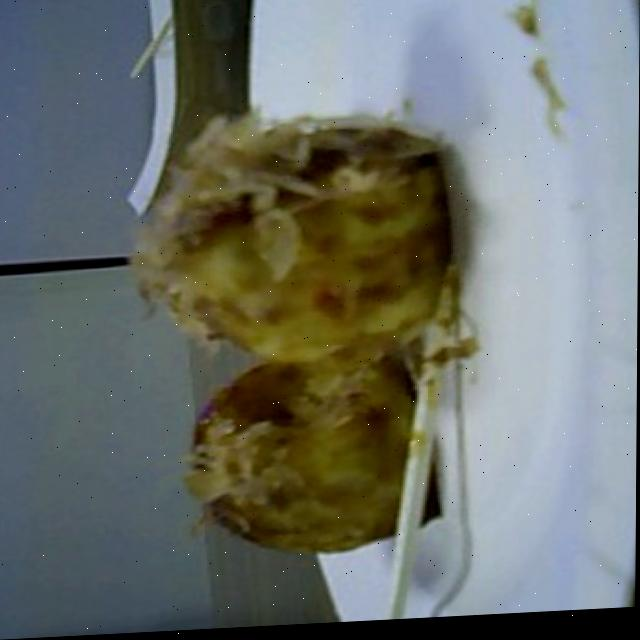炸货点心: (122, 81, 489, 610)
